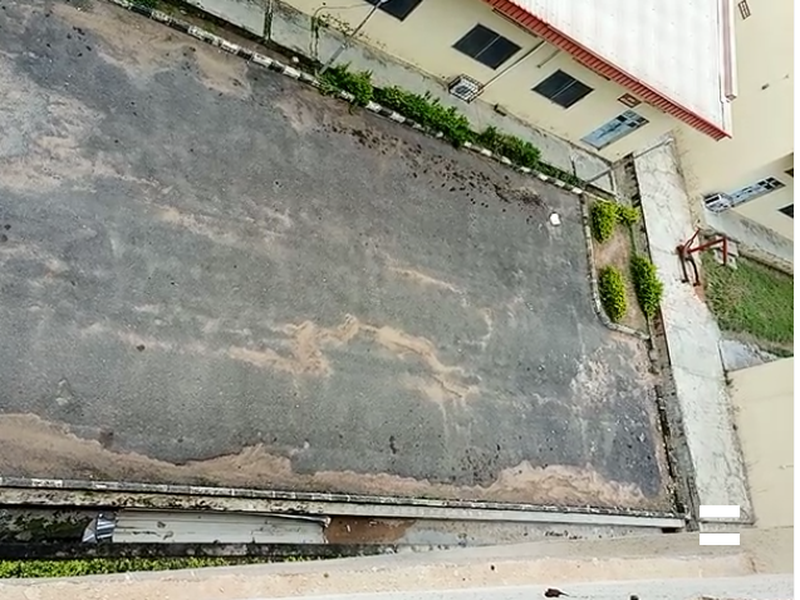five: (517, 172, 605, 310)
four: (380, 99, 472, 290)
three: (189, 11, 333, 256)
